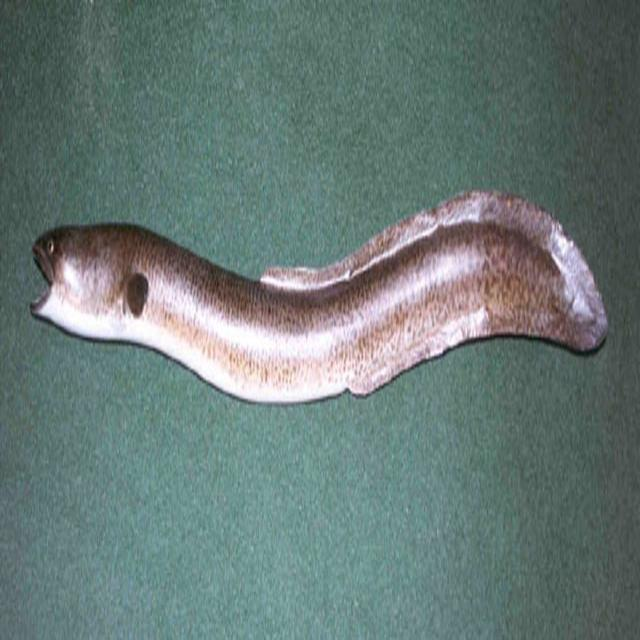Freshwater-Eel: (4, 85, 640, 498)
